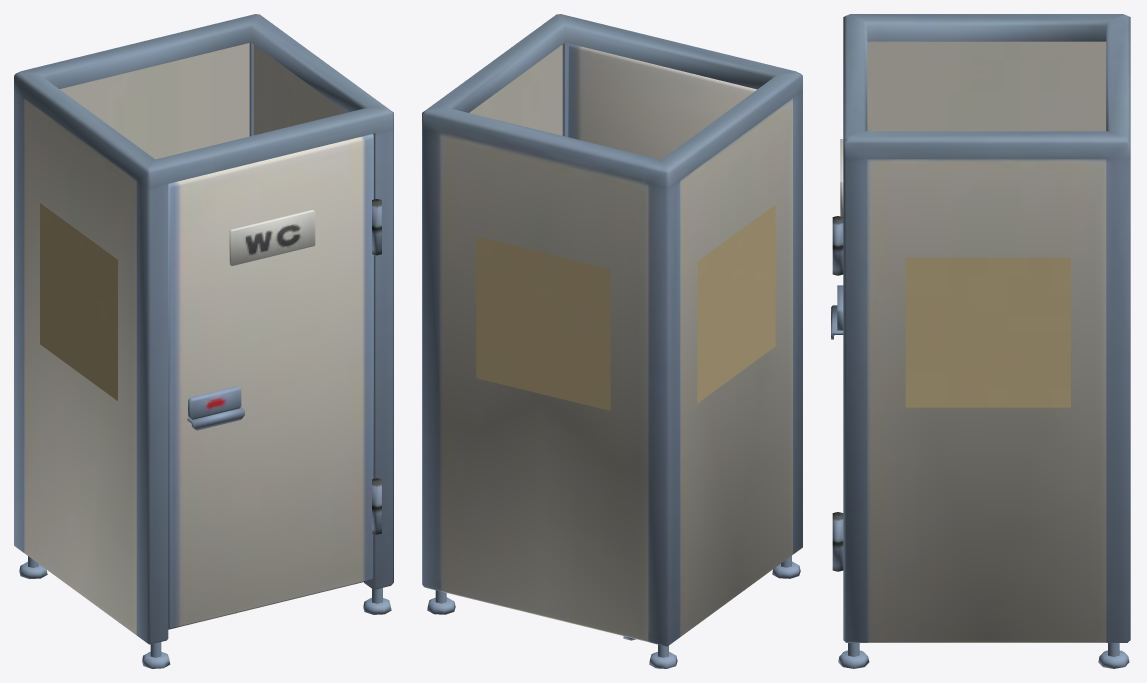
3 views of the same model, side by side, from view 1: azimuth 30°, elevation 25°; view 2: azimuth 150°, elevation 25°; view 3: azimuth 270°, elevation 25° (orthographic). The views are drawn at different scales.
Size of the model in its own units: 10.07 by 19.3 by 9.98.
4 materials, 4 textured.
